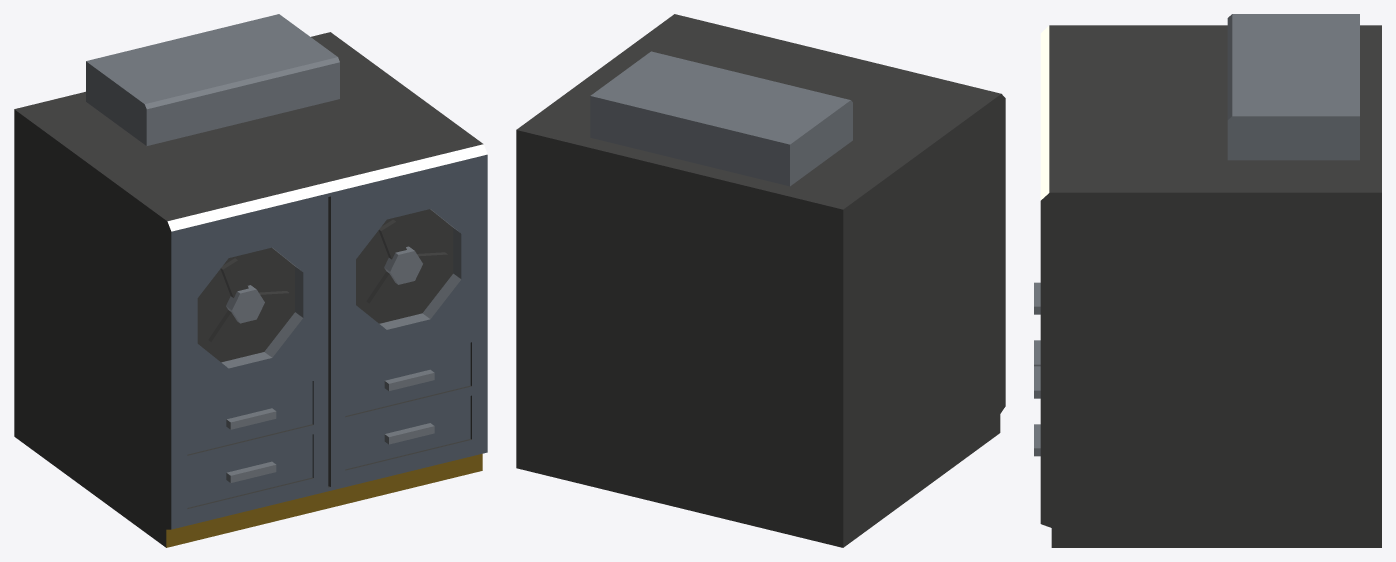
Rendered from ls_scrubbers.glb.
3 views of the same model, side by side, from view 1: azimuth 30°, elevation 25°; view 2: azimuth 150°, elevation 25°; view 3: azimuth 270°, elevation 25° (orthographic). The views are drawn at different scales.
Visible parts, largest first — view 1: ls_scrubbers; view 2: ls_scrubbers; view 3: ls_scrubbers.
Boxes of the visible parts, bbox=[...] form: ls_scrubbers: bbox=[14, 14, 487, 547]; ls_scrubbers: bbox=[516, 14, 1005, 547]; ls_scrubbers: bbox=[1034, 14, 1381, 547].
Bounding box in the file's own units: 1.8 × 2 × 1.58.
